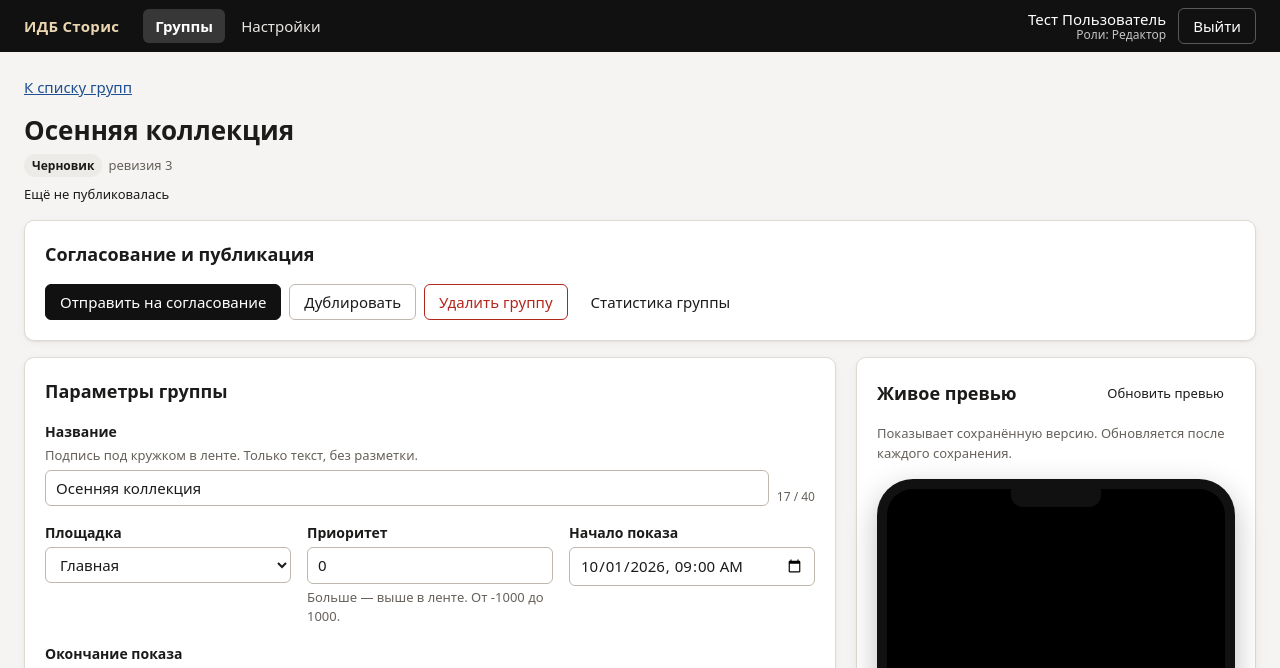
Test: Редактор группы › проблемы готовности при отправке показываются списком
The image size is (1280, 668).
Step 1. Click the button "Отправить на согласование" → coordinates (163, 302), box left=45, top=284, right=281, bottom=320
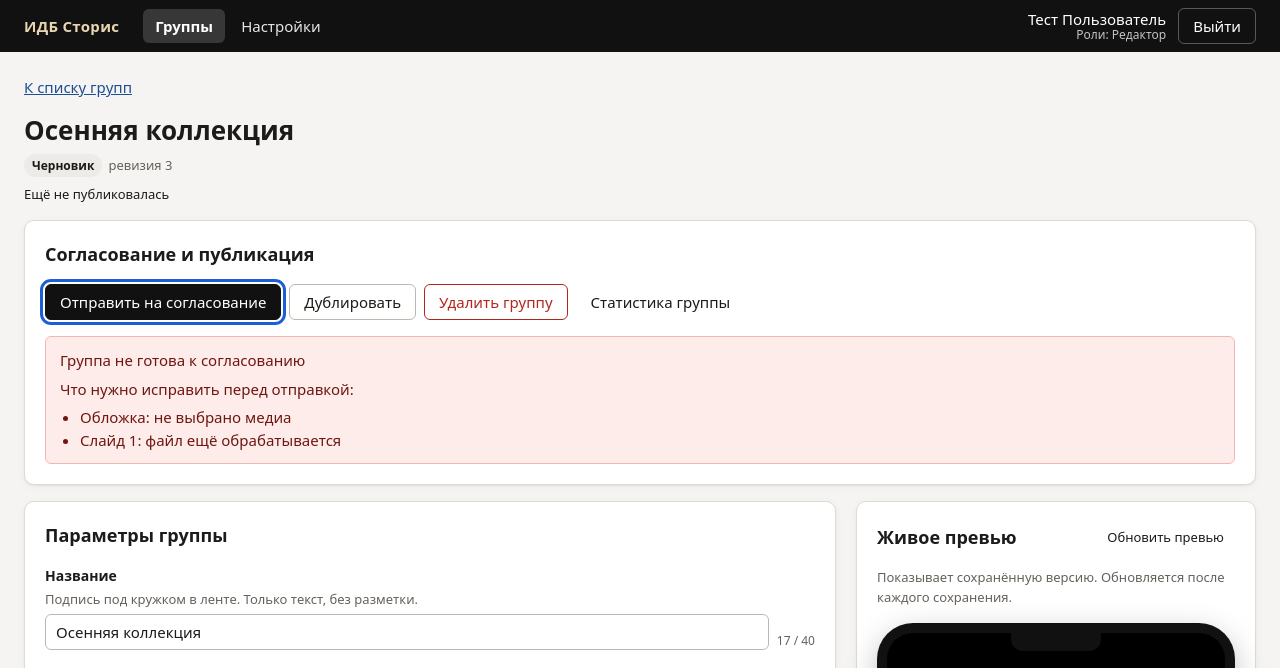
Check: the text "Что нужно исправить перед отправкой:" is shown, box left=60, top=379, right=354, bottom=399
Check: the list items read "Обложка: не выбрано медиа", "Слайд 1: файл ещё обрабатывается", in this order, box left=80, top=407, right=292, bottom=427; left=80, top=430, right=341, bottom=450
